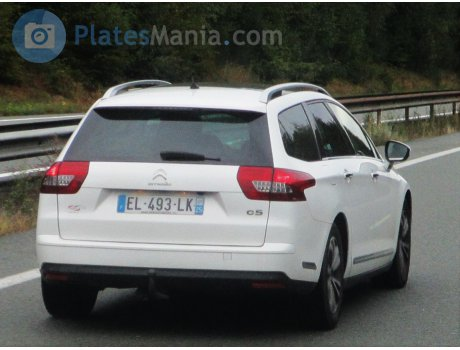licence plate: (116, 192, 206, 216)
